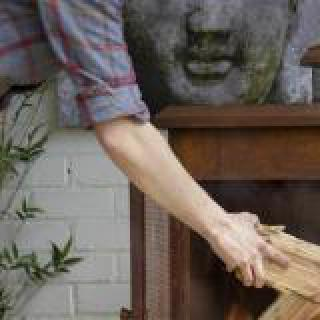fire: (242, 288, 320, 320)
